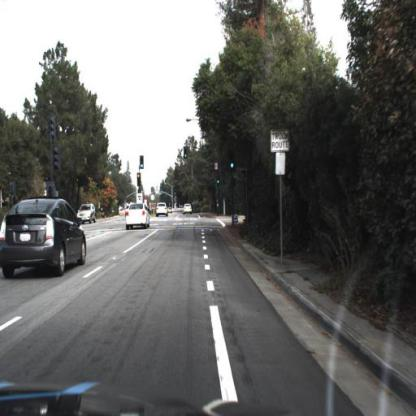car: (1, 196, 91, 288), (122, 200, 152, 238), (78, 203, 98, 224), (183, 198, 197, 219), (156, 202, 170, 222)
trafficLight-Green: (230, 151, 238, 174), (215, 173, 223, 191), (139, 154, 147, 171), (182, 146, 190, 161), (139, 157, 146, 173), (182, 147, 189, 163), (230, 158, 235, 172), (216, 176, 221, 189)
trafficLight-RedLeft: (136, 172, 144, 189), (136, 171, 142, 184)
